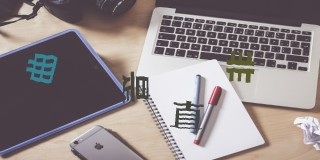是: (120, 70, 151, 103)
曲: (27, 51, 59, 85)
直: (171, 99, 204, 132)
非: (225, 50, 255, 84)
